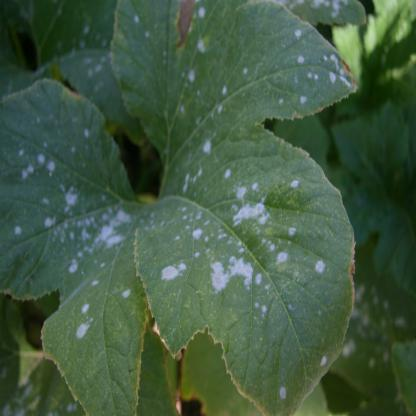Squash Powdery mildew leaf: (2, 1, 360, 416)
